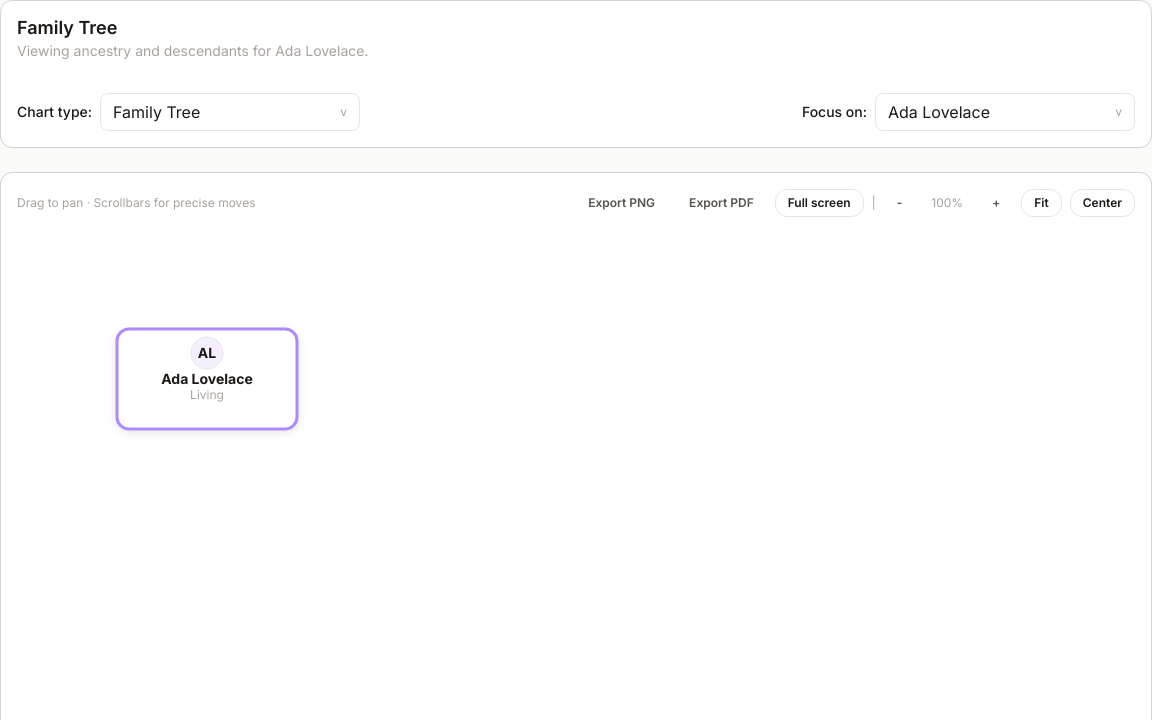
it: TreeVisualization › opens the fullscreen chart modal
Step 1. Click the button "Full screen" → click(819, 202), box top-left (775, 188), bottom-right (864, 216)
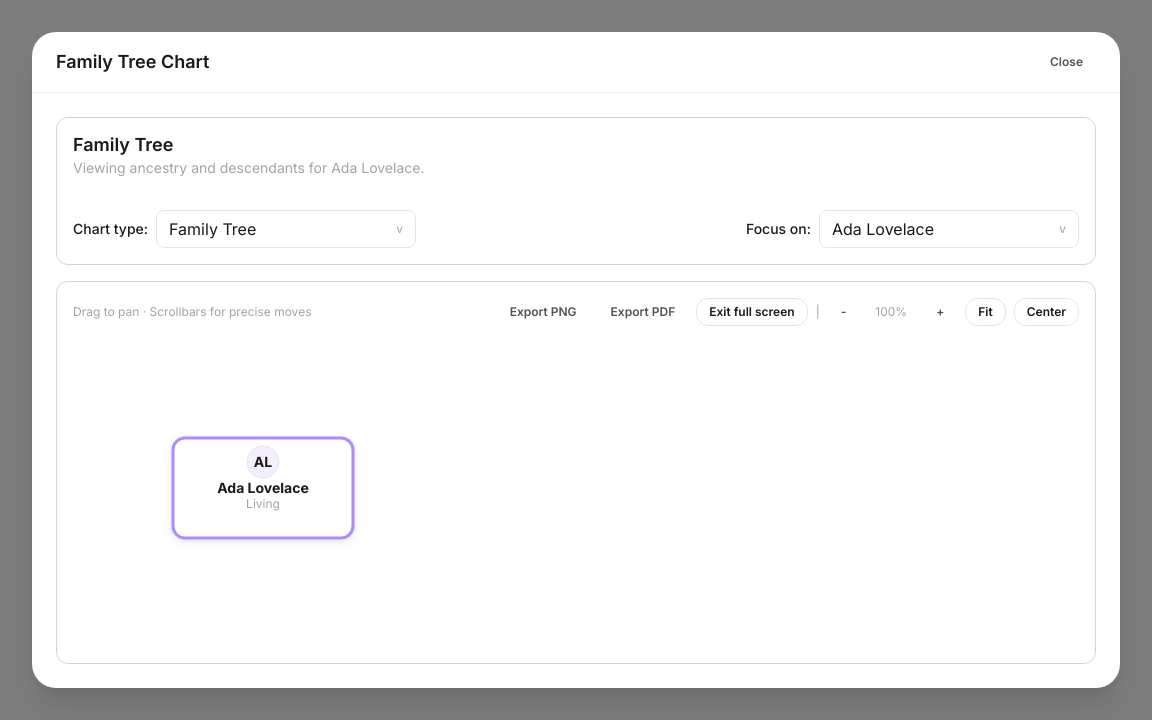
Expected: the heading "Family Tree Chart" is shown, top-left (56, 51), bottom-right (209, 73)
Step 2. Click the button "Exit full screen" → click(752, 312), box top-left (696, 298), bottom-right (808, 326)
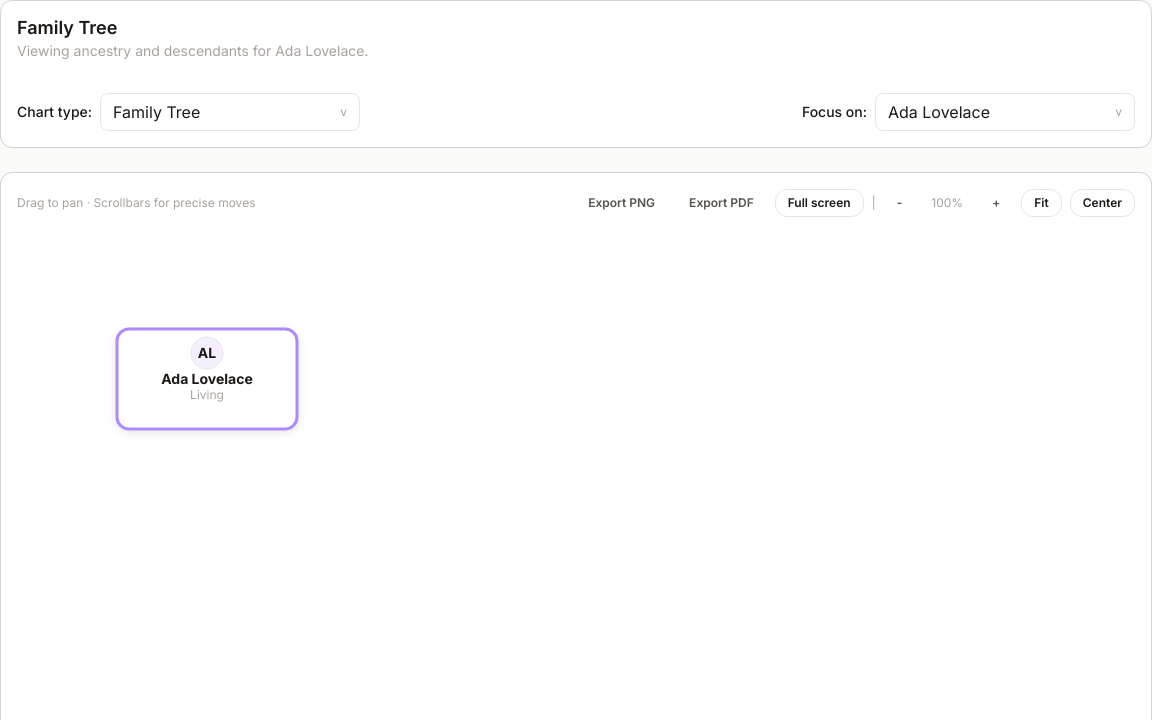
Expected: the heading "Family Tree Chart" is gone
